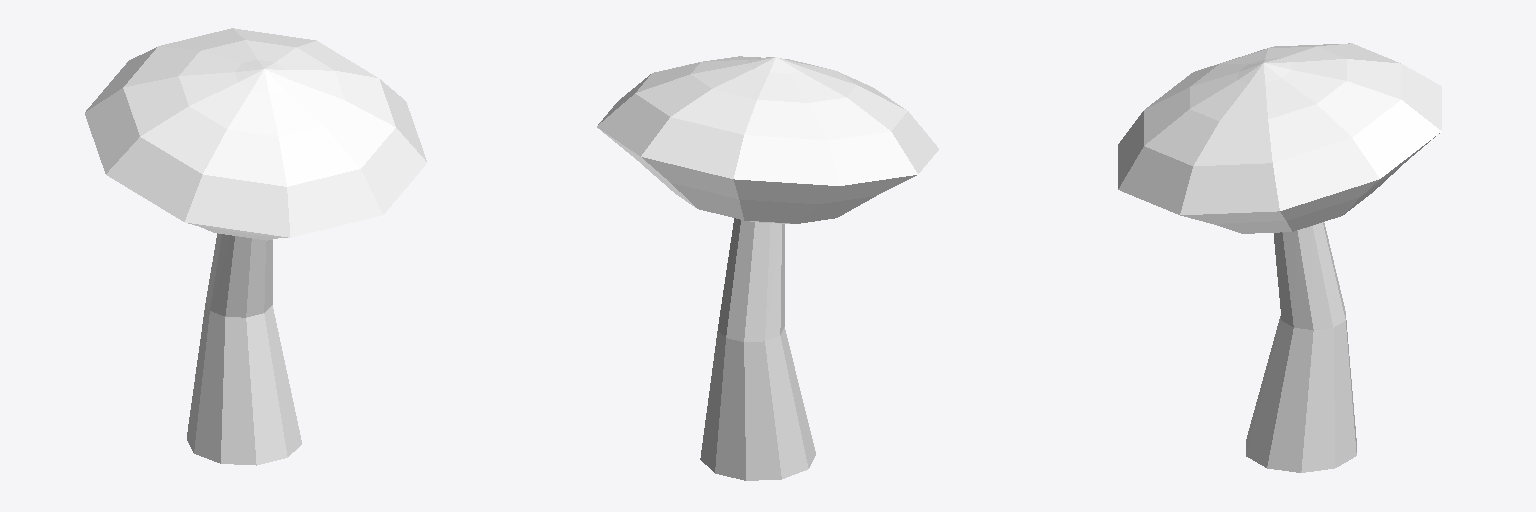
The model's file is mushroom_def.obj.
3 renders of one model, left to right at view 1: azimuth 30°, elevation 25°; view 2: azimuth 150°, elevation 25°; view 3: azimuth 270°, elevation 25°, orthographic.
Visible parts, largest first — view 1: pCylinder58; view 2: pCylinder58; view 3: pCylinder58.
Part boxes in pixels (x1,y1,x2,y2): pCylinder58: (85, 28, 426, 465); pCylinder58: (597, 56, 938, 480); pCylinder58: (1118, 43, 1441, 472).
Size of the model in its own units: 1.83 by 2.24 by 1.7.